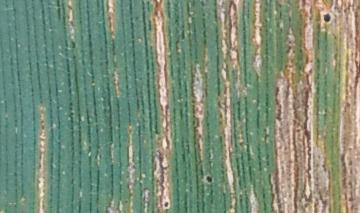tarspot: (322, 12, 333, 24), (204, 175, 214, 184), (162, 199, 169, 209)
